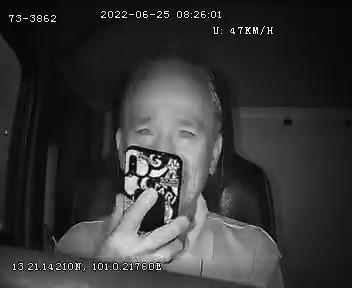PhoneUse: (109, 141, 188, 257)
